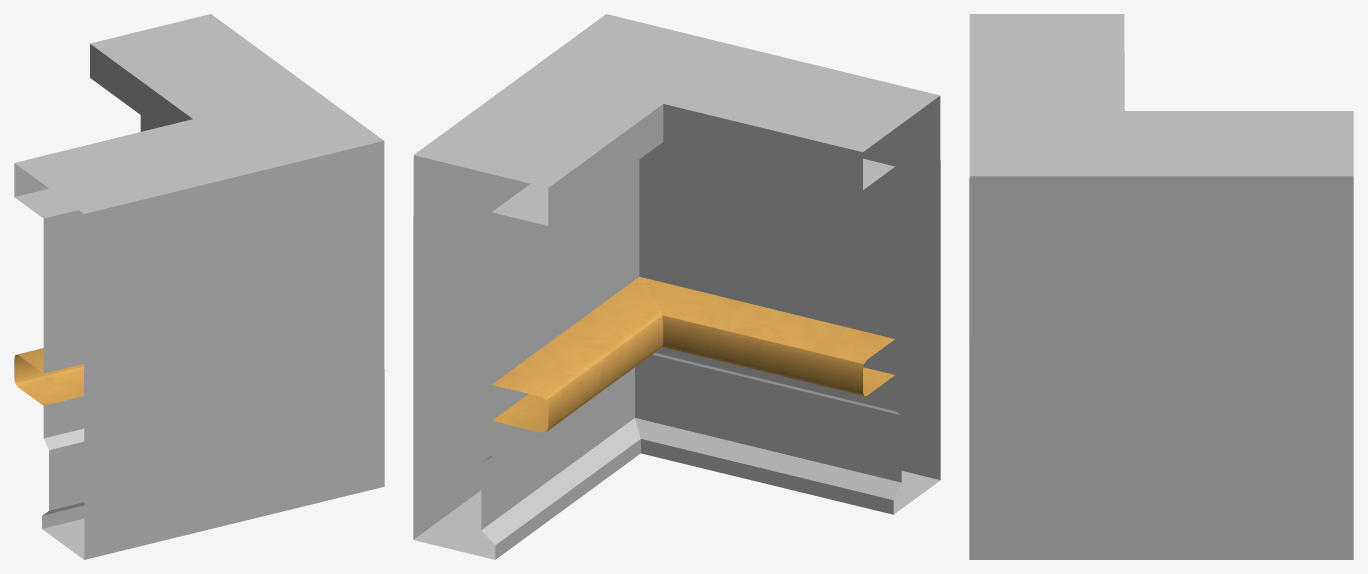
The model's file is SM_Beam_03_Corner_02.fbx.
3 renders of one model, left to right at view 1: azimuth 30°, elevation 25°; view 2: azimuth 150°, elevation 25°; view 3: azimuth 270°, elevation 25°, orthographic. The views are drawn at different scales.
Parts seen in each view (by area): view 1: SM_Beam_03_Corner_02_LOD0; view 2: SM_Beam_03_Corner_02_LOD0; view 3: SM_Beam_03_Corner_02_LOD0.
Boxes of the visible parts, <box> form: SM_Beam_03_Corner_02_LOD0: <box>14,14,384,559</box>; SM_Beam_03_Corner_02_LOD0: <box>413,14,940,559</box>; SM_Beam_03_Corner_02_LOD0: <box>969,14,1353,559</box>.
Bounding box in the file's own units: 300 × 300 × 330.
